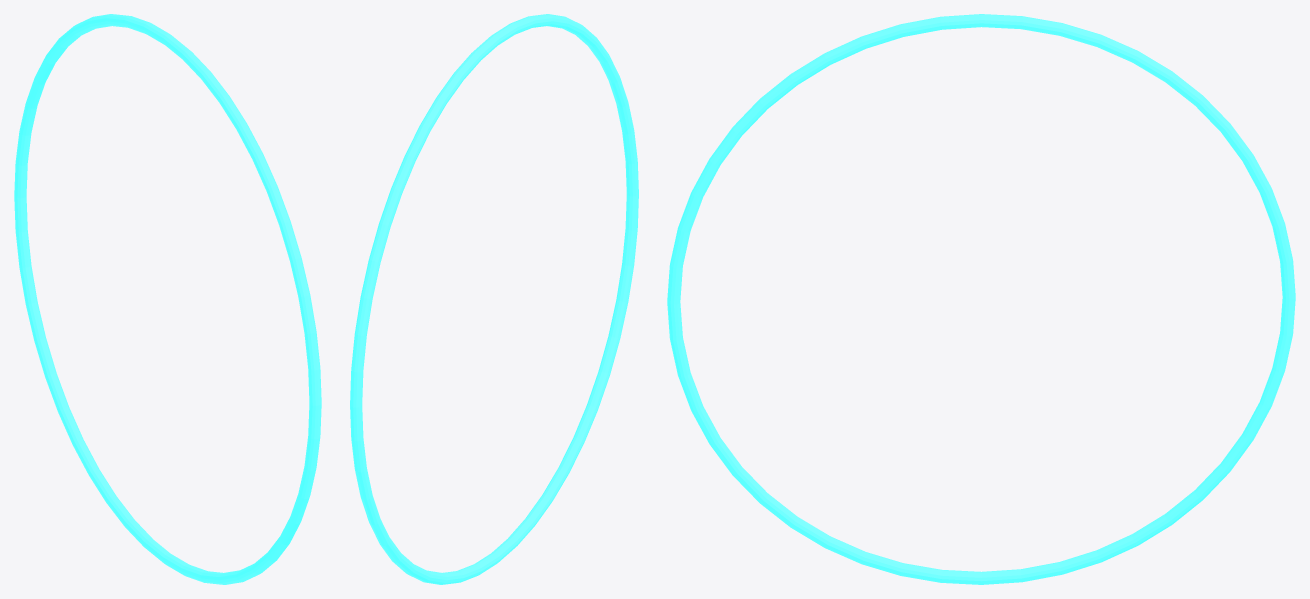
Rendered from portal_aura1_lev5.glb.
The picture shows the model from 3 angles, left to right: view 1: azimuth 30°, elevation 25°; view 2: azimuth 150°, elevation 25°; view 3: azimuth 270°, elevation 25°; orthographic projection. The views are drawn at different scales.
Visible parts, largest first — view 1: portal_aura1_lev5; view 2: portal_aura1_lev5; view 3: portal_aura1_lev5.
Boxes of the visible parts, x1,y1,x2,y2 form: portal_aura1_lev5: [14, 14, 321, 584]; portal_aura1_lev5: [350, 14, 638, 584]; portal_aura1_lev5: [667, 14, 1295, 584].
Bounding box in the file's own units: 0.2192 × 5.72 × 5.72.
